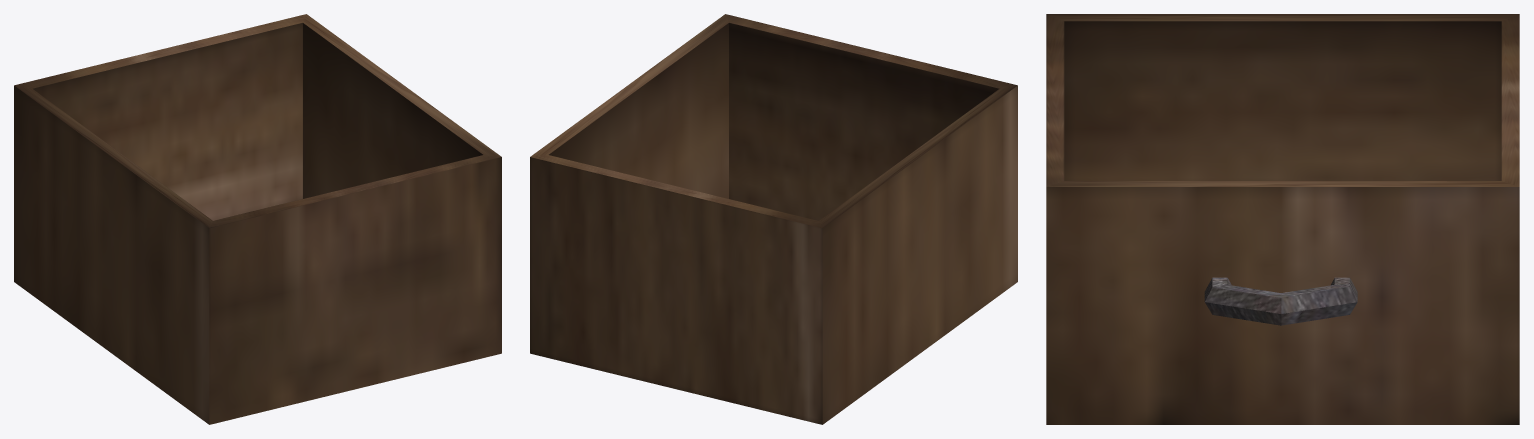
The model's file is CODBox.fbx.
3 views of the same model, side by side, from view 1: azimuth 30°, elevation 25°; view 2: azimuth 150°, elevation 25°; view 3: azimuth 270°, elevation 25° (orthographic). The views are drawn at different scales.
Parts seen in each view (by area): view 1: Cube.002; view 2: Cube.002; view 3: Cube.002.
Part boxes in pixels (x1,y1,x2,y2): Cube.002: (14,14,501,424); Cube.002: (530,14,1017,424); Cube.002: (1046,14,1519,424).
Bounding box in the file's own units: 65 × 36.88 × 66.46.
1 material, 1 textured.
